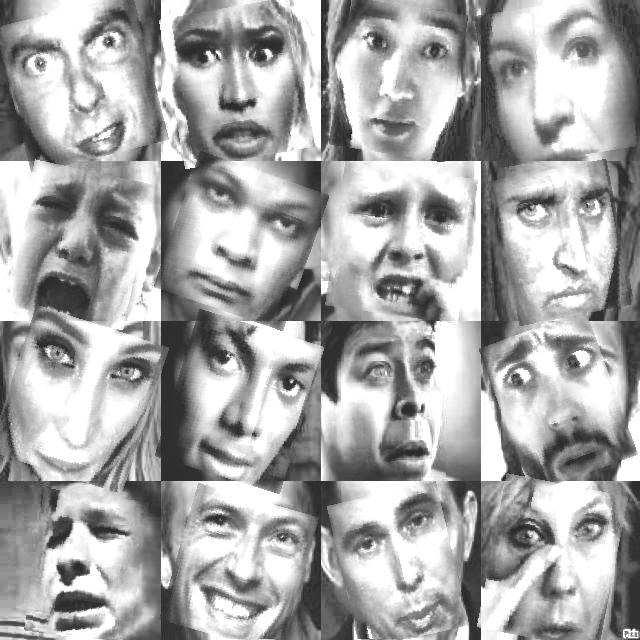angry: (3, 0, 160, 165), (163, 160, 320, 322)
fear: (165, 2, 309, 164), (491, 318, 627, 486), (330, 166, 474, 320), (335, 1, 463, 158), (345, 333, 445, 479)
happy: (0, 314, 159, 485), (164, 317, 315, 487), (167, 490, 310, 640)
neutral: (479, 0, 632, 163), (334, 486, 461, 640)
sad: (484, 478, 621, 640), (11, 164, 147, 324), (498, 164, 628, 322), (29, 491, 144, 640)
